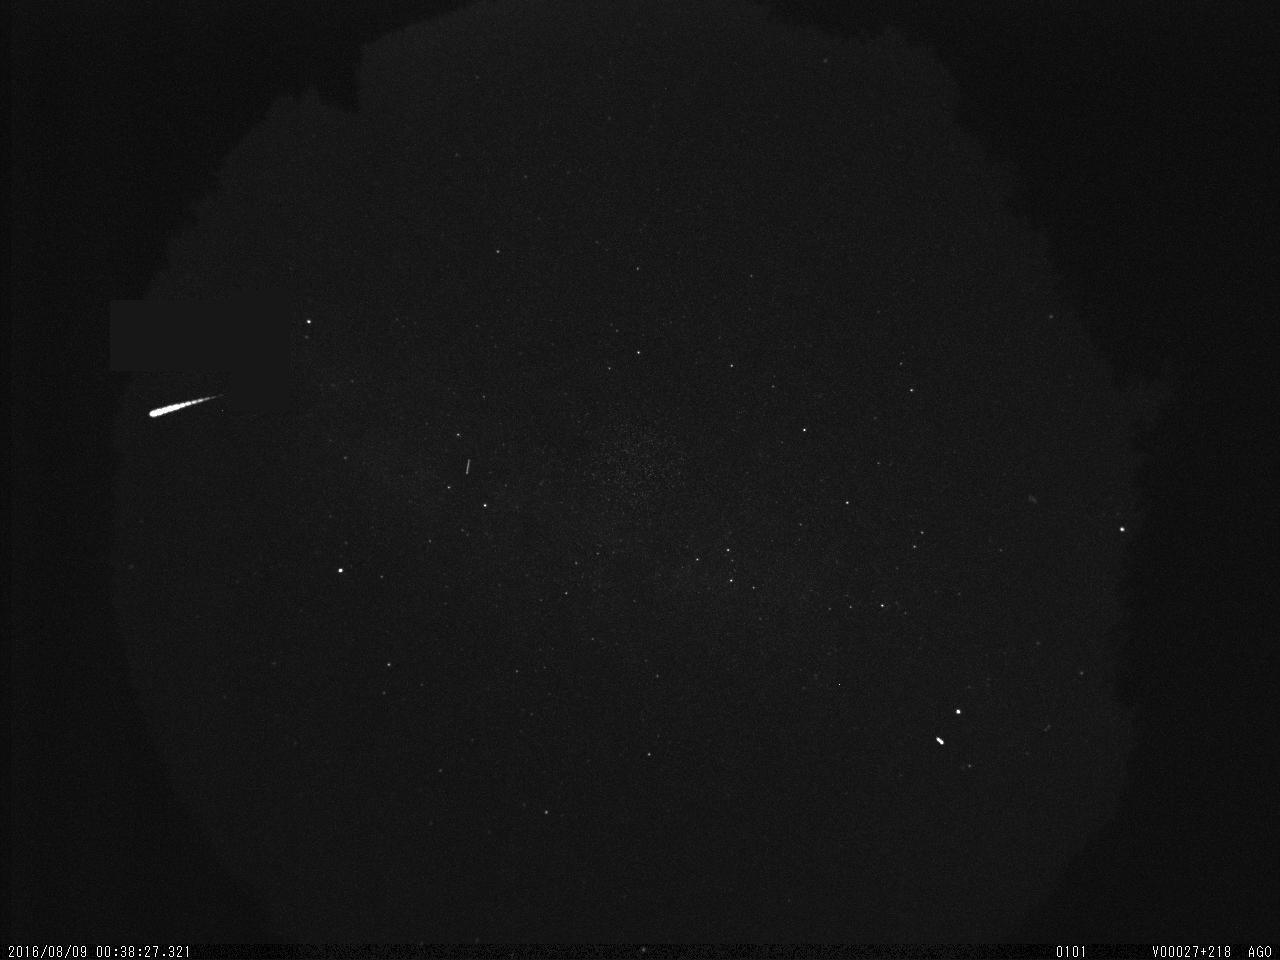meteor: (142, 388, 220, 429)
